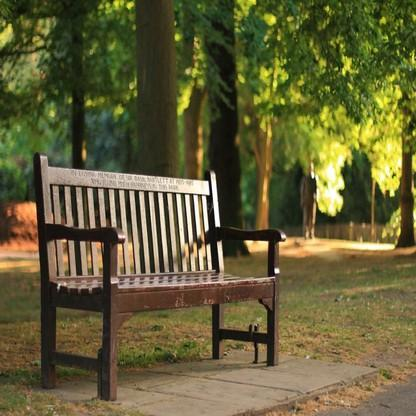obstacle: (23, 143, 289, 402)
